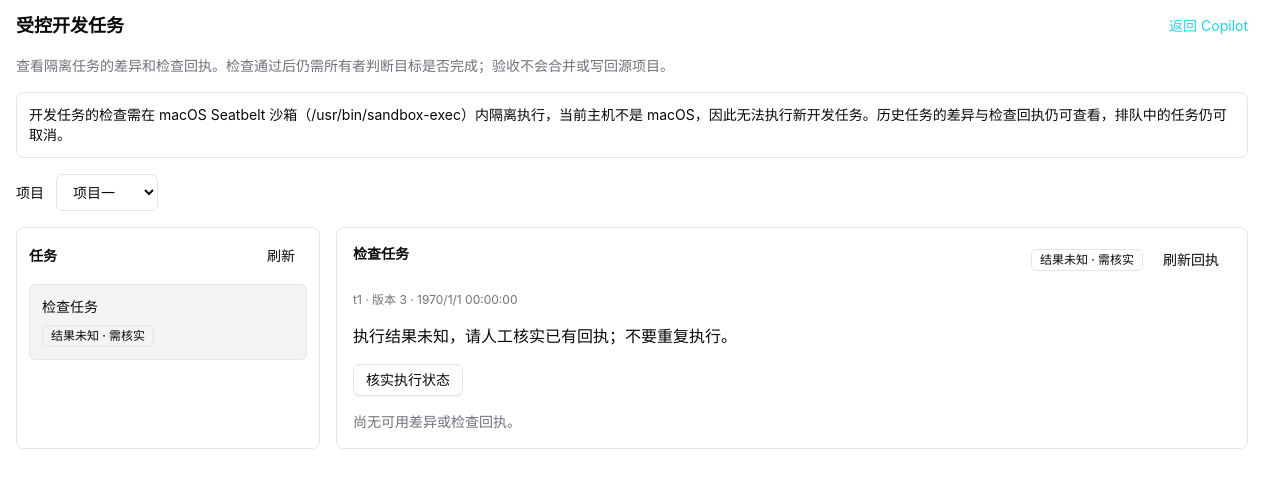
Scenario: keeps a legacy execution fenced when trustworthy identity is missing
The image size is (1265, 494).
Click the button "核实执行状态" at (408, 380), box x1=353 y1=364 x2=463 y2=396
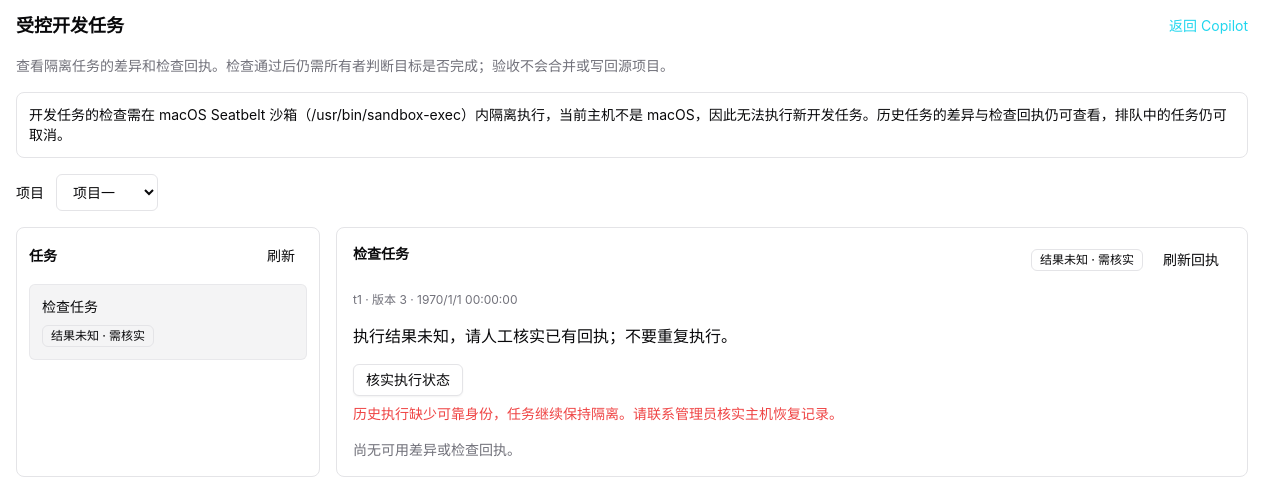
Now the text "历史执行缺少可靠身份，任务继续保持隔离。请联系管理员核实主机恢复记录。" is shown, box x1=353 y1=405 x2=843 y2=422
